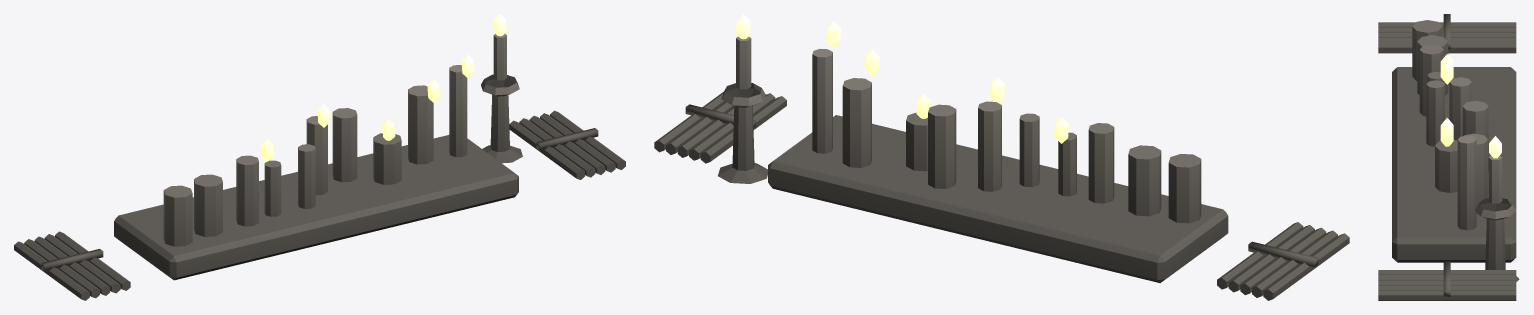
Rendered from SM_VK_Prop_ShopGoods_Candles.fbx.
The picture shows the model from 3 angles, left to right: view 1: azimuth 30°, elevation 25°; view 2: azimuth 150°, elevation 25°; view 3: azimuth 270°, elevation 25°; orthographic projection. The views are drawn at different scales.
Parts seen in each view (by area): view 1: SM_VK_Prop_ShopGoods_Candles.001; view 2: SM_VK_Prop_ShopGoods_Candles.001; view 3: SM_VK_Prop_ShopGoods_Candles.001.
Part boxes in pixels (x1,y1,x2,y2): SM_VK_Prop_ShopGoods_Candles.001: [14, 14, 625, 300]; SM_VK_Prop_ShopGoods_Candles.001: [654, 14, 1349, 300]; SM_VK_Prop_ShopGoods_Candles.001: [1378, 14, 1519, 300].
Size of the model in its own units: 1.9 by 0.4596 by 0.41.
